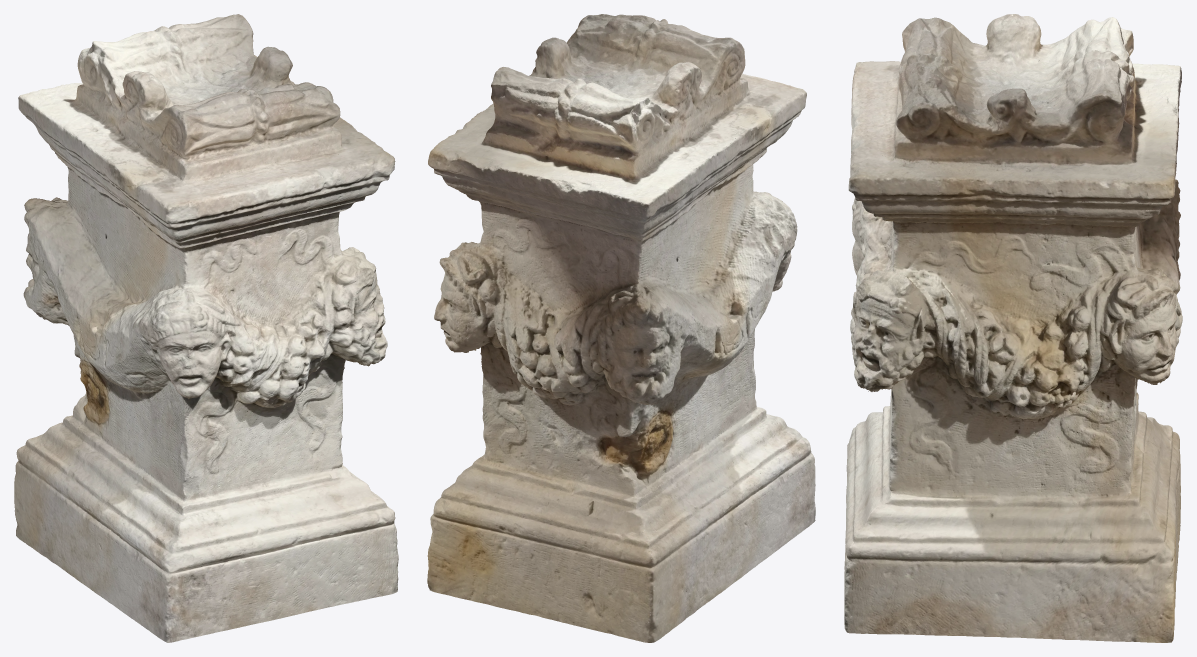
Rendered from autel.glb.
3 renders of one model, left to right at view 1: azimuth 30°, elevation 25°; view 2: azimuth 150°, elevation 25°; view 3: azimuth 270°, elevation 25°, orthographic. The views are drawn at different scales.
Visible parts, largest first — view 1: Object_2, Object_4; view 2: Object_2, Object_4; view 3: Object_4, Object_2.
Boxes of the visible parts, box(x1,y1,x2,y2) form: Object_2: box(14, 83, 398, 642); Object_4: box(14, 14, 395, 642); Object_2: box(427, 38, 806, 642); Object_4: box(428, 14, 815, 642); Object_4: box(848, 14, 1182, 497); Object_2: box(844, 17, 1181, 642).
Size of the model in its own units: 1.16 by 2.41 by 1.38.
Materials: 2 (2 with a texture image).
